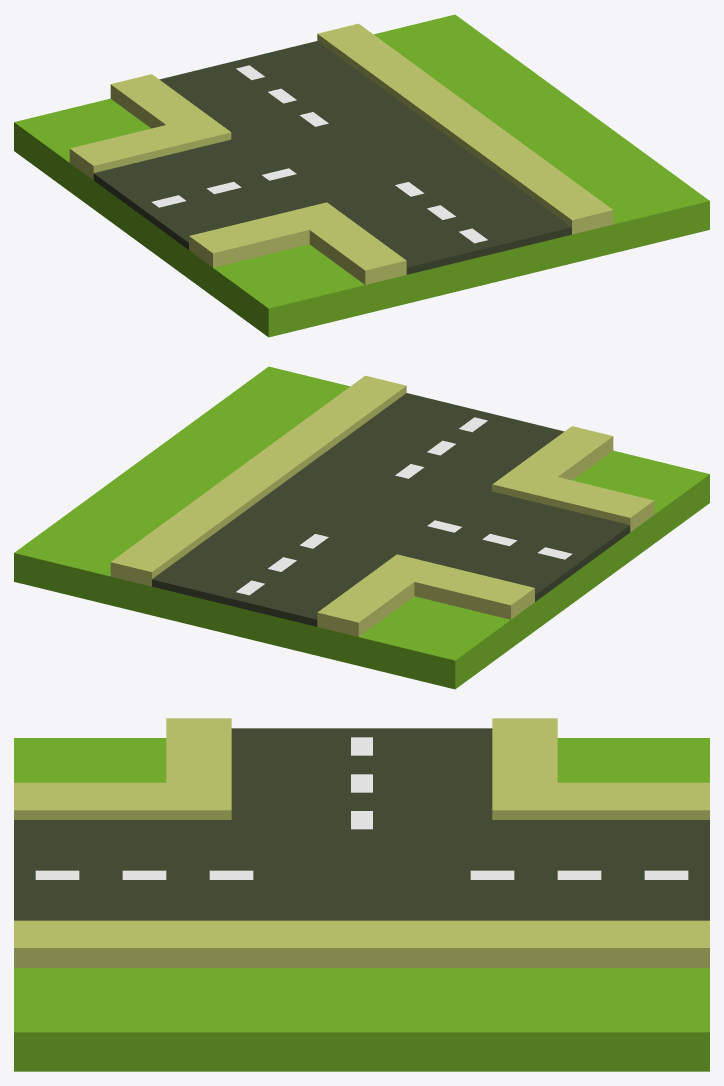
File: Left.obj
3 views of the same model, one above another, from view 1: azimuth 30°, elevation 25°; view 2: azimuth 150°, elevation 25°; view 3: azimuth 270°, elevation 25° (orthographic). The views are drawn at different scales.
Size of the model in its own units: 6.4 by 0.6 by 6.4.
Materials: 1 (1 with a texture image).
